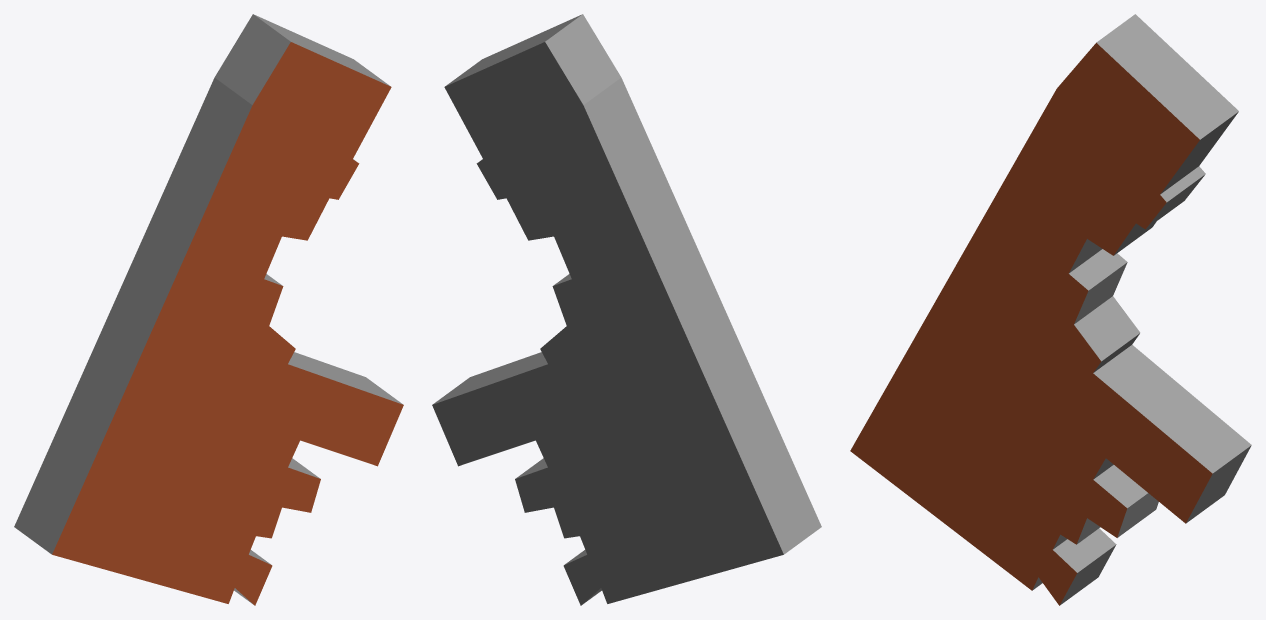
File: construction_1614_assumed_A_Casa_h6m.obj
3 views of the same model, side by side, from view 1: azimuth 30°, elevation 25°; view 2: azimuth 150°, elevation 25°; view 3: azimuth 330°, elevation 25° (orthographic). The views are drawn at different scales.
Visible parts, largest first — view 1: construction_1614_assumed_A_Casa; view 2: construction_1614_assumed_A_Casa; view 3: construction_1614_assumed_A_Casa.
Boxes of the visible parts, x1,y1,x2,y2 form: construction_1614_assumed_A_Casa: (14, 14, 403, 605); construction_1614_assumed_A_Casa: (432, 14, 821, 605); construction_1614_assumed_A_Casa: (850, 14, 1251, 605).
Size of the model in its own units: 32.11 by 48.43 by 6.
